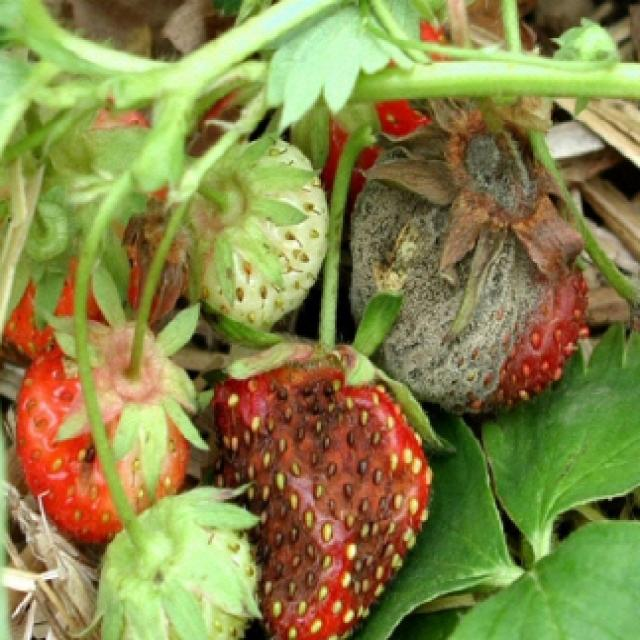Anthracnose Fruit Rot: (350, 127, 583, 413), (210, 349, 436, 640)
